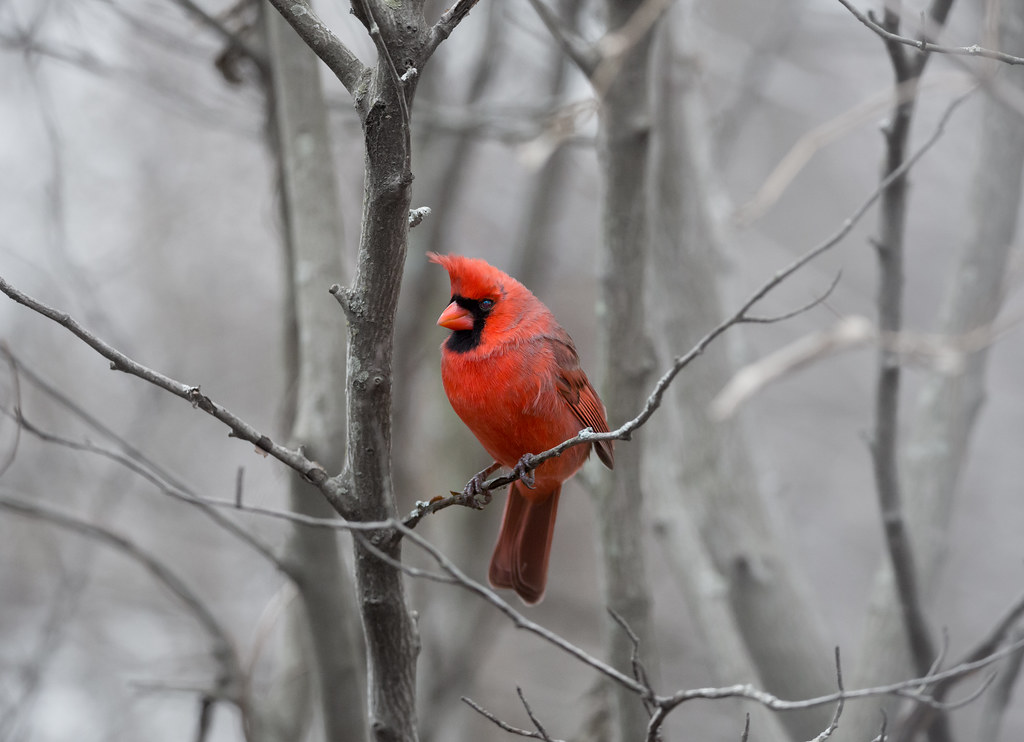bird: (407, 203, 646, 677)
